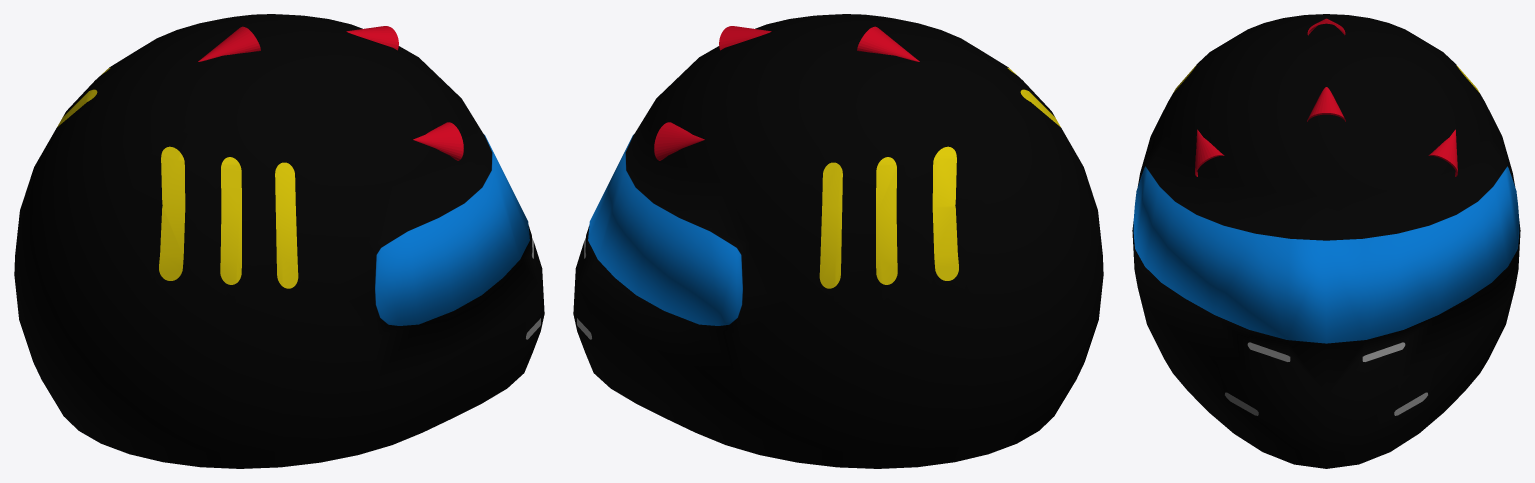
File: Racing Helmet.glb
3 renders of one model, left to right at view 1: azimuth 30°, elevation 25°; view 2: azimuth 150°, elevation 25°; view 3: azimuth 270°, elevation 25°, orthographic. The views are drawn at different scales.
Visible parts, largest first — view 1: Sphere; view 2: Sphere; view 3: Sphere.
Boxes of the visible parts, x1=… form: Sphere: x1=14, y1=14, x2=544, y2=468; Sphere: x1=573, y1=14, x2=1103, y2=468; Sphere: x1=1132, y1=14, x2=1520, y2=468.
Bounding box in the file's own units: 1.66 × 1.23 × 1.3.
